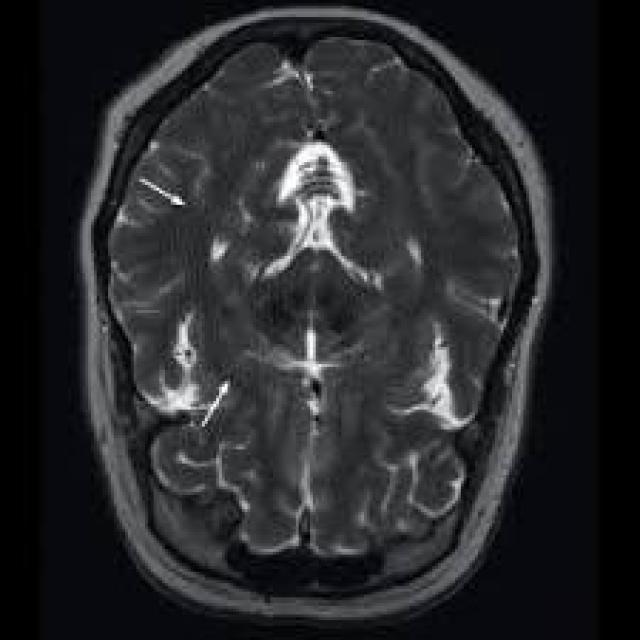notumor: (82, 9, 549, 620)
